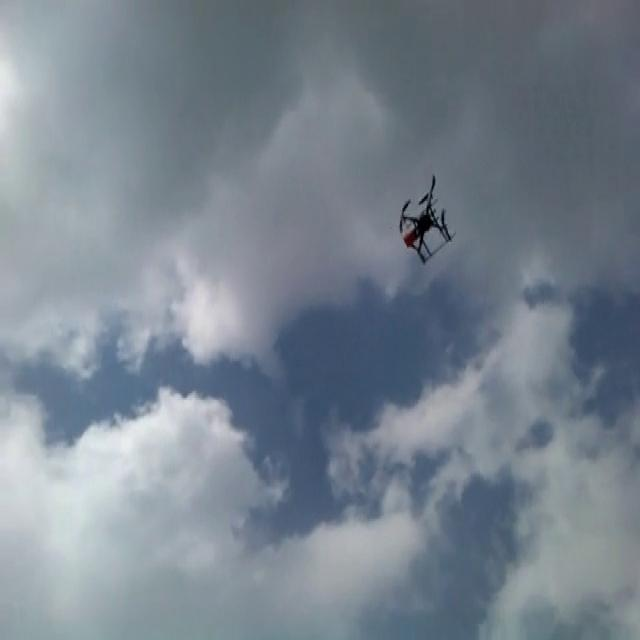drone: (395, 167, 455, 269)
